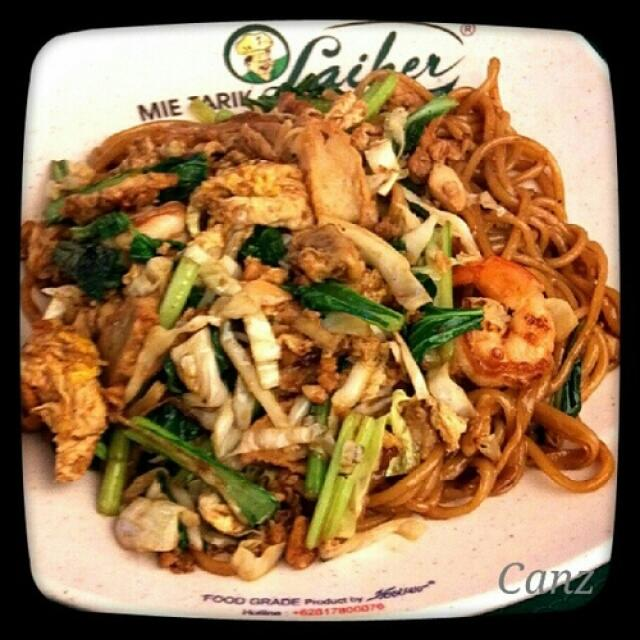面条主食: (29, 26, 630, 628)
